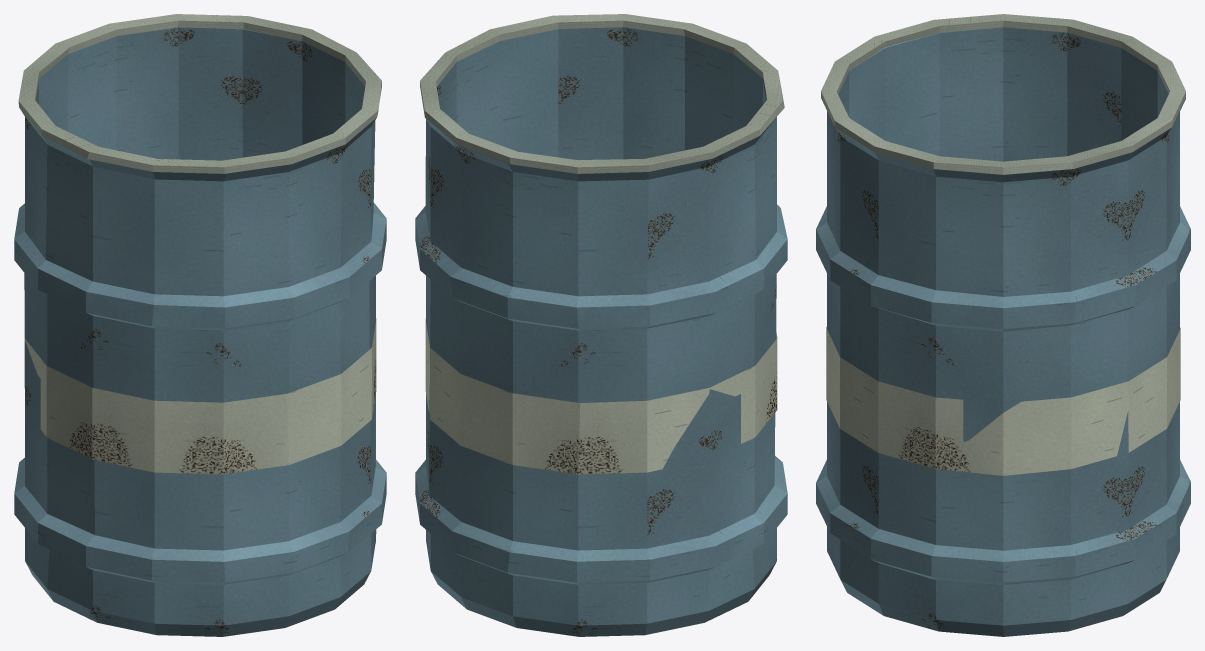
Rendered from barrel3_v1.glb.
3 views of the same model, side by side, from view 1: azimuth 30°, elevation 25°; view 2: azimuth 150°, elevation 25°; view 3: azimuth 270°, elevation 25° (orthographic).
Parts seen in each view (by area): view 1: Variant_barrel3_1; view 2: Variant_barrel3_1; view 3: Variant_barrel3_1.
Part boxes in pixels (box(x1,y1,x2,y2)): Variant_barrel3_1: box(14, 14, 386, 636); Variant_barrel3_1: box(415, 14, 787, 636); Variant_barrel3_1: box(816, 14, 1190, 636).
Bounding box in the file's own units: 0.616 × 0.86 × 0.616.
4 materials, 4 textured.
